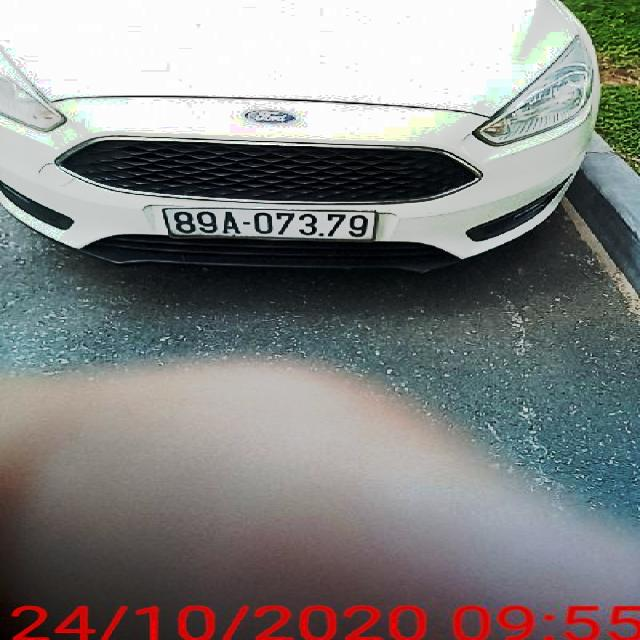license_plate: (164, 208, 377, 242)
